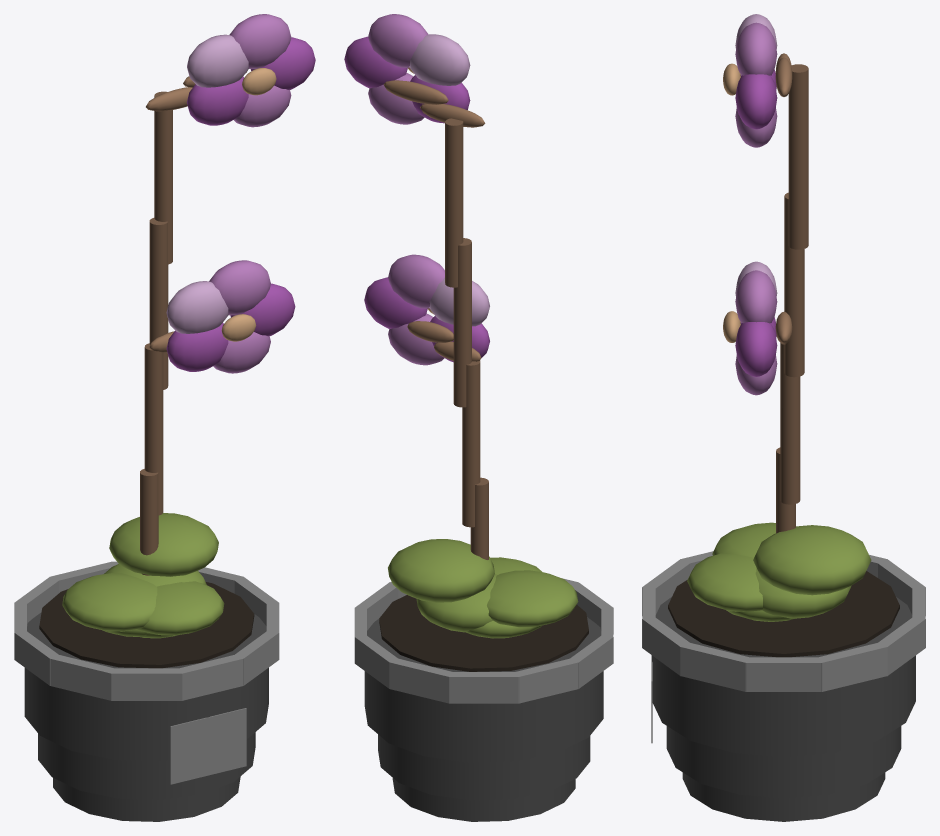
File: CMU3DPottedPlant18.glb
3 renders of one model, left to right at view 1: azimuth 30°, elevation 25°; view 2: azimuth 150°, elevation 25°; view 3: azimuth 270°, elevation 25°, orthographic. The views are drawn at different scales.
Visible parts, largest first — view 1: orchid petal (×10), tapered leaf blade (×4), upper pot wall, branch (×5), recessed soil, lower tapered pot wall, pot front highlight, narrow pot foot, hollow curved planter rim 09, hollow curved planter rim 08, hollow curved planter rim 10, orchid warm center (×2) (+6 smaller); view 2: orchid petal (×10), upper pot wall, tapered leaf blade (×5), branch (×7), recessed soil, lower tapered pot wall, narrow pot foot, hollow curved planter rim 05, hollow curved planter rim 06, hollow curved planter rim 04, hollow curved planter rim 07, hollow curved planter rim 03 (+2 smaller); view 3: upper pot wall, tapered leaf blade (×4), branch (×5), recessed soil, lower tapered pot wall, orchid petal (×6), narrow pot foot, hollow curved planter rim 01, hollow curved planter rim 02, hollow curved planter rim 12, hollow curved planter rim 11, hollow curved planter rim 03 (+2 smaller).
Part boxes in pixels (x1=…): orchid petal (×10): x1=166, y1=14, x2=315, y2=373; tapered leaf blade (×4): x1=62, y1=513, x2=224, y2=635; upper pot wall: x1=24, y1=612, x2=268, y2=761; branch (×5): x1=140, y1=87, x2=192, y2=575; recessed soil: x1=39, y1=582, x2=254, y2=668; lower tapered pot wall: x1=38, y1=732, x2=255, y2=799; pot front highlight: x1=170, y1=708, x2=246, y2=784; narrow pot foot: x1=53, y1=776, x2=240, y2=821; hollow curved planter rim 09: x1=111, y1=668, x2=182, y2=700; hollow curved planter rim 08: x1=49, y1=654, x2=116, y2=700; hollow curved planter rim 10: x1=178, y1=655, x2=243, y2=700; orchid warm center (×2): x1=221, y1=68, x2=276, y2=341; orchid petal (×10): x1=344, y1=14, x2=489, y2=365; upper pot wall: x1=364, y1=617, x2=603, y2=762; tapered leaf blade (×5): x1=388, y1=539, x2=578, y2=638; branch (×7): x1=383, y1=80, x2=488, y2=559; recessed soil: x1=379, y1=595, x2=588, y2=671; lower tapered pot wall: x1=378, y1=734, x2=590, y2=800; narrow pot foot: x1=392, y1=778, x2=575, y2=821; hollow curved planter rim 05: x1=449, y1=672, x2=519, y2=703; hollow curved planter rim 06: x1=515, y1=658, x2=578, y2=703; hollow curved planter rim 04: x1=389, y1=659, x2=455, y2=703; hollow curved planter rim 07: x1=570, y1=636, x2=613, y2=688; hollow curved planter rim 03: x1=355, y1=634, x2=399, y2=688; upper pot wall: x1=652, y1=597, x2=915, y2=757; tapered leaf blade (×4): x1=687, y1=522, x2=871, y2=618; branch (×5): x1=775, y1=57, x2=808, y2=533; recessed soil: x1=668, y1=571, x2=899, y2=657; lower tapered pot wall: x1=666, y1=726, x2=901, y2=798; orchid petal (×6): x1=735, y1=22, x2=777, y2=395; narrow pot foot: x1=682, y1=772, x2=885, y2=821; hollow curved planter rim 01: x1=745, y1=657, x2=822, y2=691; hollow curved planter rim 02: x1=819, y1=643, x2=887, y2=691; hollow curved planter rim 12: x1=680, y1=643, x2=748, y2=691; hollow curved planter rim 11: x1=642, y1=616, x2=691, y2=675; hollow curved planter rim 03: x1=876, y1=616, x2=925, y2=675.
Size of the model in its own units: 0.3973 by 1.06 by 0.3386.
